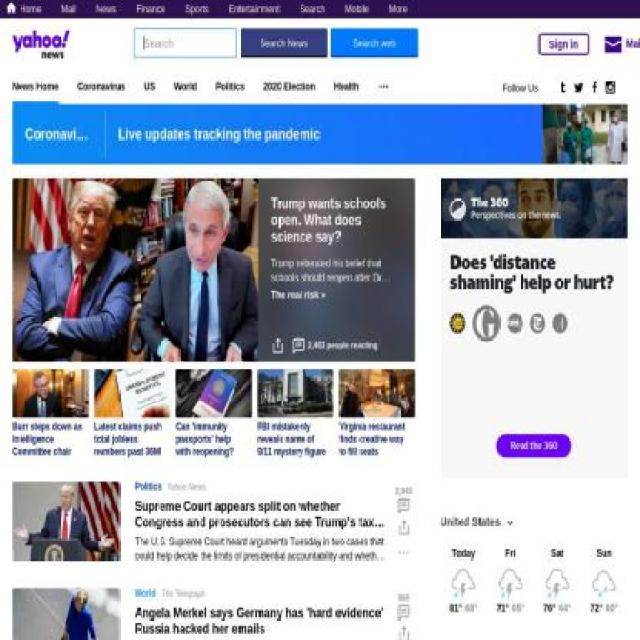button: (12, 180, 258, 362), (0, 104, 640, 165), (440, 238, 632, 305), (338, 369, 416, 458), (94, 369, 171, 458), (257, 369, 334, 458), (13, 369, 89, 458), (176, 369, 252, 458), (12, 28, 130, 66), (240, 28, 328, 58), (331, 28, 418, 58), (263, 69, 315, 105), (496, 434, 572, 458), (77, 69, 126, 105), (12, 69, 58, 105), (292, 336, 378, 355), (181, 104, 224, 139), (126, 104, 163, 139), (76, 104, 109, 139), (214, 69, 246, 105), (603, 29, 640, 60), (537, 33, 589, 55), (242, 104, 269, 139), (264, 328, 290, 362), (335, 69, 359, 105), (174, 69, 197, 105), (392, 509, 416, 543), (392, 616, 416, 639), (393, 602, 415, 626), (393, 496, 415, 518), (499, 512, 521, 532), (144, 69, 156, 105), (573, 69, 584, 105), (558, 69, 568, 105), (590, 69, 599, 105), (606, 69, 614, 105)
field: (134, 28, 237, 58)
